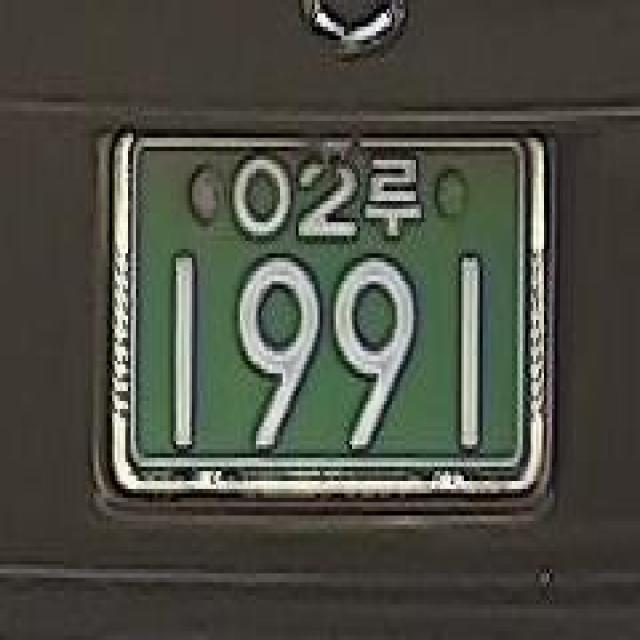illegal_plate: (85, 102, 562, 524)
